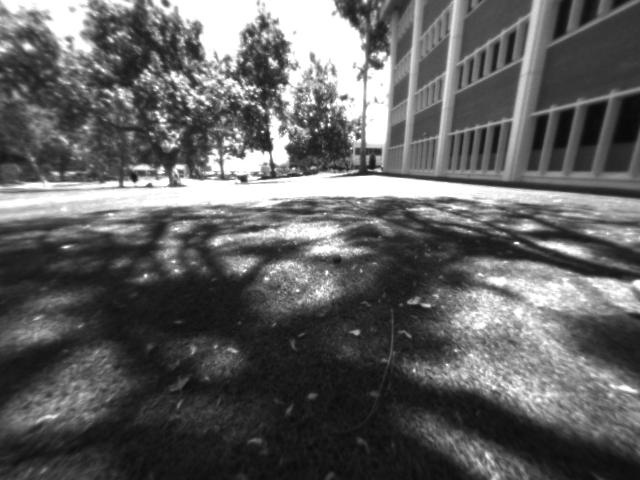dogtoy: (327, 248, 346, 269)
